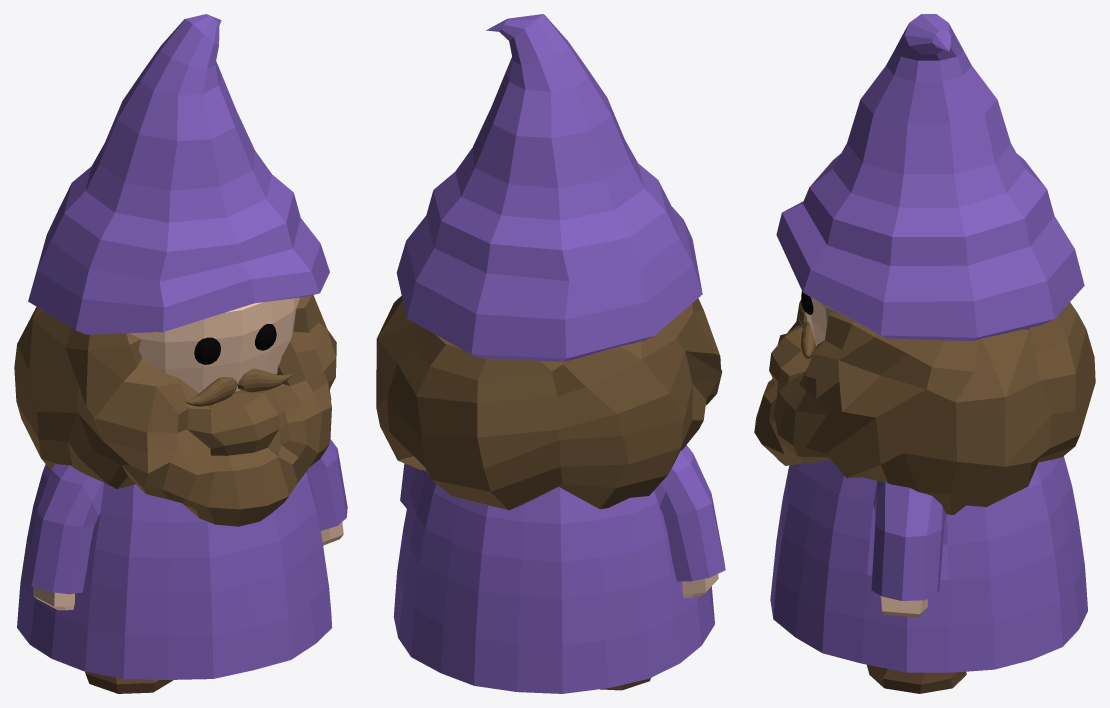
The model's file is purple_gnome.fbx.
3 views of the same model, side by side, from view 1: azimuth 30°, elevation 25°; view 2: azimuth 150°, elevation 25°; view 3: azimuth 270°, elevation 25° (orthographic).
Visible parts, largest first — view 1: gnome_combined; view 2: gnome_combined; view 3: gnome_combined.
Boxes of the visible parts, x1,y1,x2,y2 form: gnome_combined: (14,14,347,693); gnome_combined: (376,14,725,693); gnome_combined: (754,14,1095,693).
Bounding box in the file's own units: 10.86 × 20.81 × 10.08.
